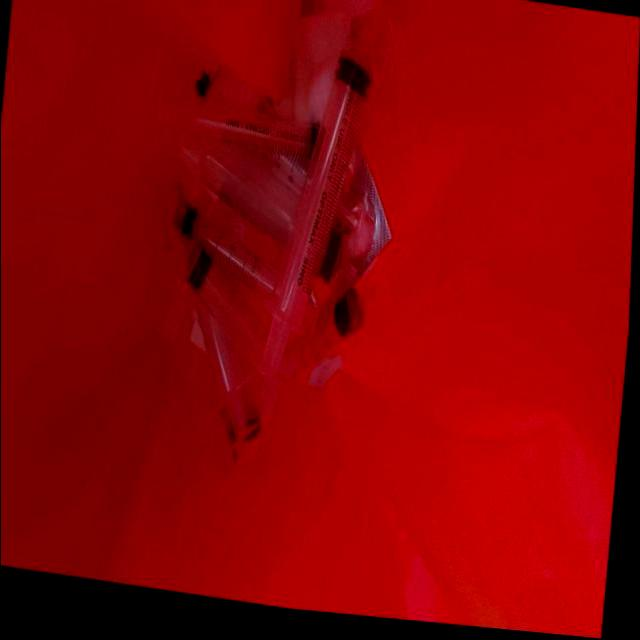General: (157, 50, 395, 465)
